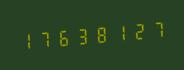eight: (93, 19, 111, 48)
one: (17, 26, 35, 54), (112, 18, 130, 46)
seven: (36, 24, 54, 53), (150, 14, 168, 43)
six: (55, 23, 73, 51)
three: (74, 21, 92, 49)
two: (131, 16, 149, 44)
